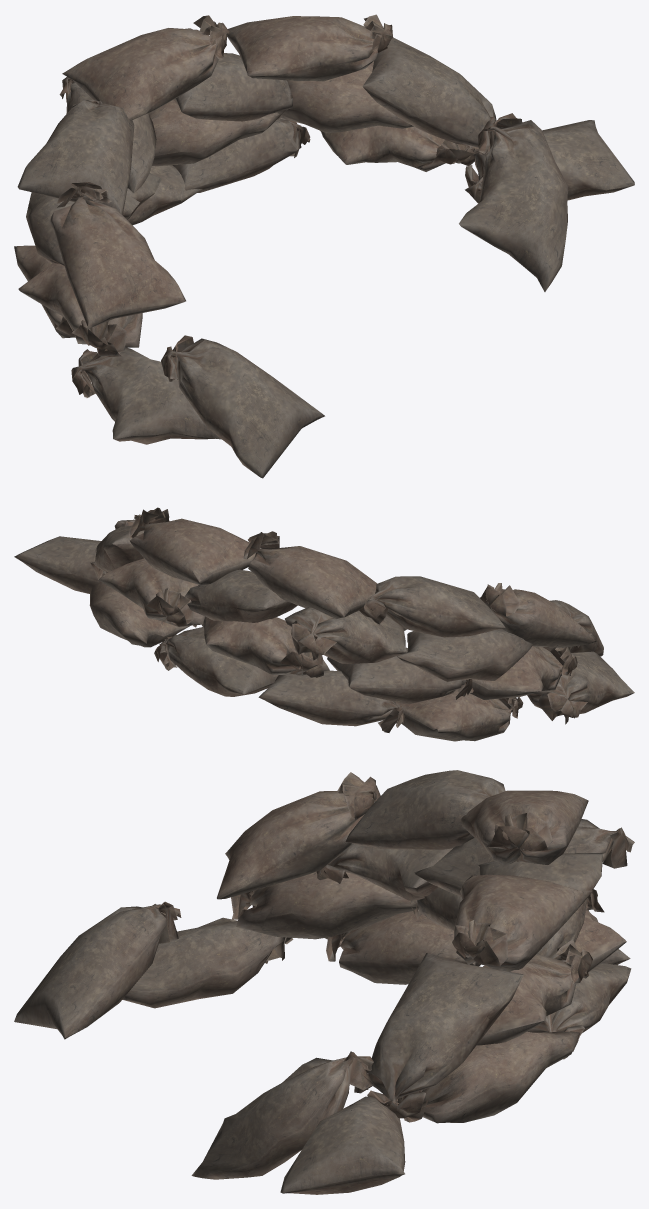
Rendered from SM_Sandbag_Pile_02.fbx.
The picture shows the model from 3 angles, top to bottom: view 1: azimuth 30°, elevation 25°; view 2: azimuth 150°, elevation 25°; view 3: azimuth 270°, elevation 25°; orthographic projection. The views are drawn at different scales.
Visible parts, largest first — view 1: SM_Sandbag_Pile_02_LOD0; view 2: SM_Sandbag_Pile_02_LOD0; view 3: SM_Sandbag_Pile_02_LOD0.
Boxes of the visible parts, box(x1,y1,x2,y2) form: SM_Sandbag_Pile_02_LOD0: box(14, 14, 634, 478); SM_Sandbag_Pile_02_LOD0: box(14, 507, 634, 741); SM_Sandbag_Pile_02_LOD0: box(14, 770, 634, 1194).
Size of the model in its own units: 481 by 375 by 202.
1 material, 1 textured.
